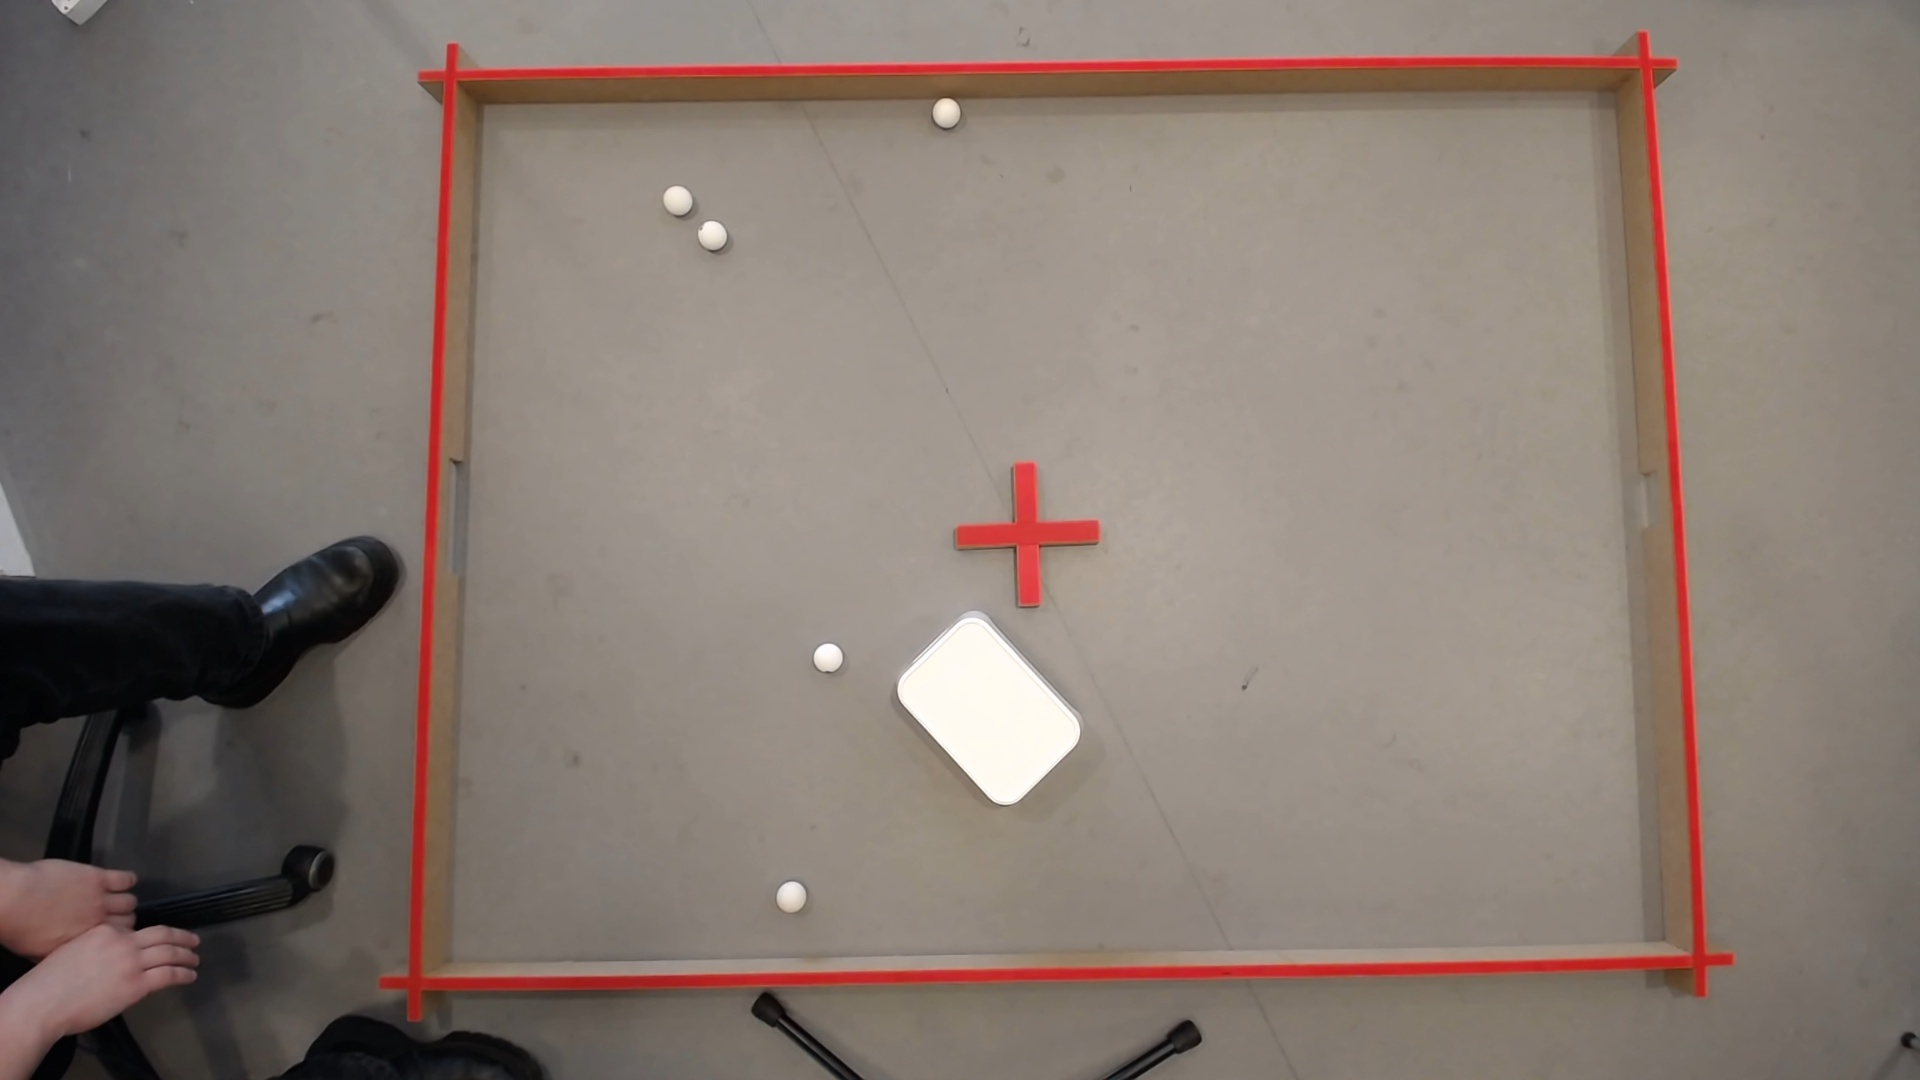balls: (885, 605, 1092, 814), (774, 876, 807, 909), (659, 181, 694, 212), (695, 216, 728, 248), (814, 642, 841, 667)
car: (930, 94, 960, 124)
